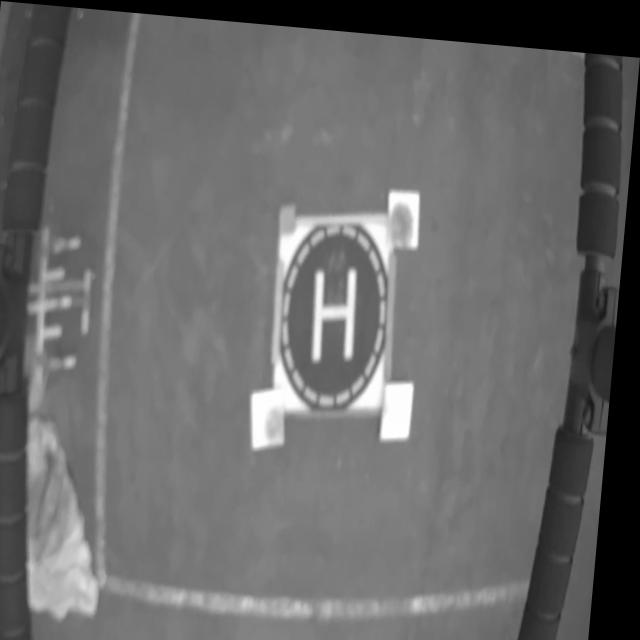Helipad: (316, 261, 362, 352)
